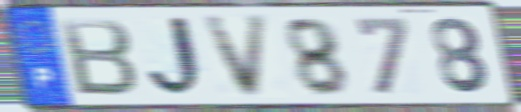7: (352, 14, 413, 99)
8: (284, 15, 350, 99), (430, 16, 490, 96)
B: (57, 16, 141, 99)
J: (146, 14, 213, 101)
V: (200, 12, 272, 101)
